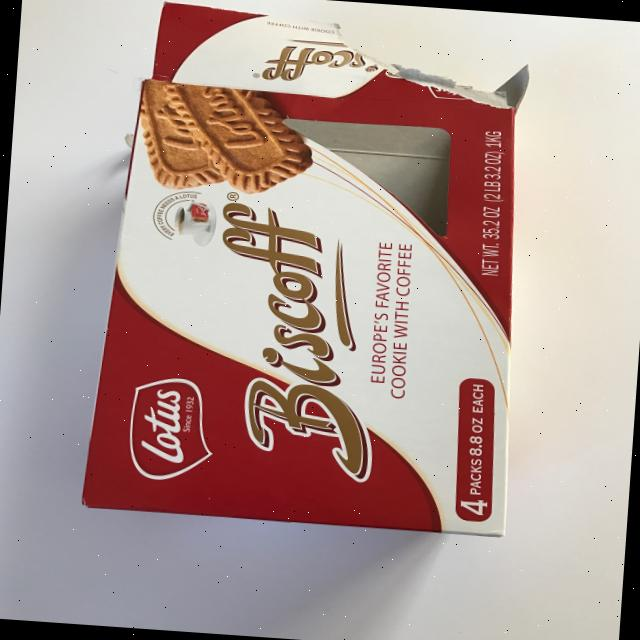paper: (81, 0, 539, 537)
